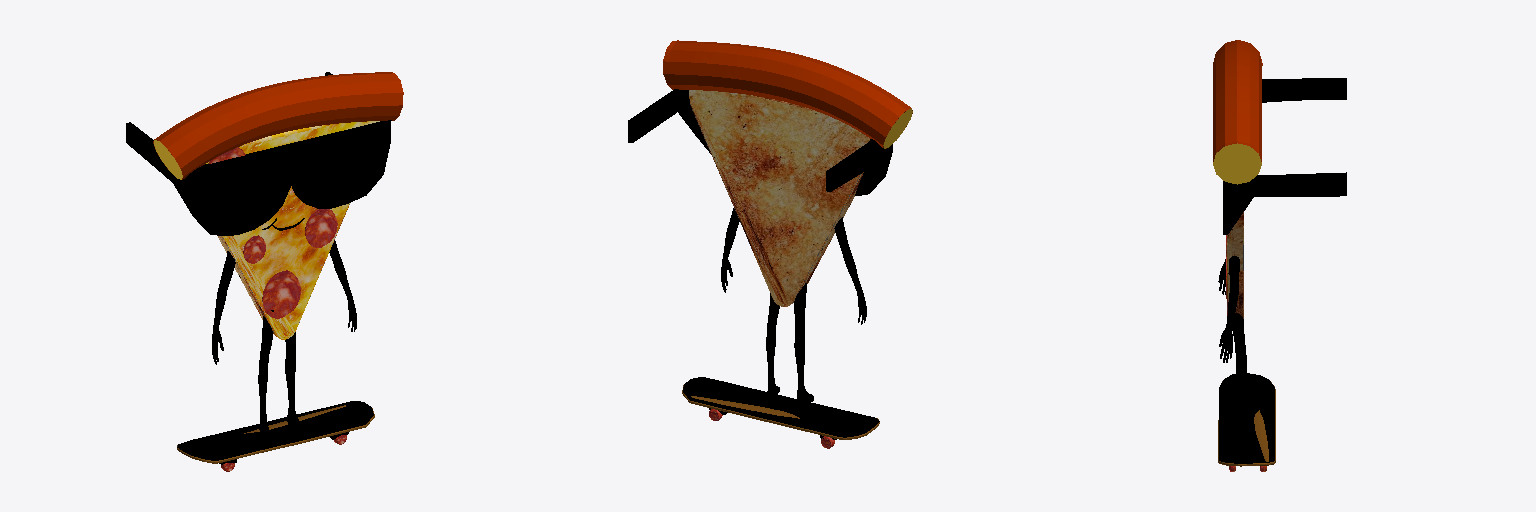
3 renders of one model, left to right at view 1: azimuth 30°, elevation 25°; view 2: azimuth 150°, elevation 25°; view 3: azimuth 270°, elevation 25°, orthographic.
Visible parts, largest first — view 1: pasted__polySurface5 group, pasted__pCylinder12 group1; view 2: pasted__polySurface5 group, pasted__pCylinder12 group1; view 3: pasted__polySurface5 group, pasted__pCylinder12 group1.
Part boxes in pixels (left/top/right/bottom): pasted__polySurface5 group: left=126, top=72, right=403, bottom=440; pasted__pCylinder12 group1: left=177, top=401, right=374, bottom=471; pasted__polySurface5 group: left=628, top=40, right=912, bottom=404; pasted__pCylinder12 group1: left=682, top=377, right=879, bottom=448; pasted__polySurface5 group: left=1213, top=40, right=1346, bottom=426; pasted__pCylinder12 group1: left=1218, top=373, right=1275, bottom=471.
Size of the model in its own units: 69.74 by 105 by 34.53.
13 materials, 3 textured.